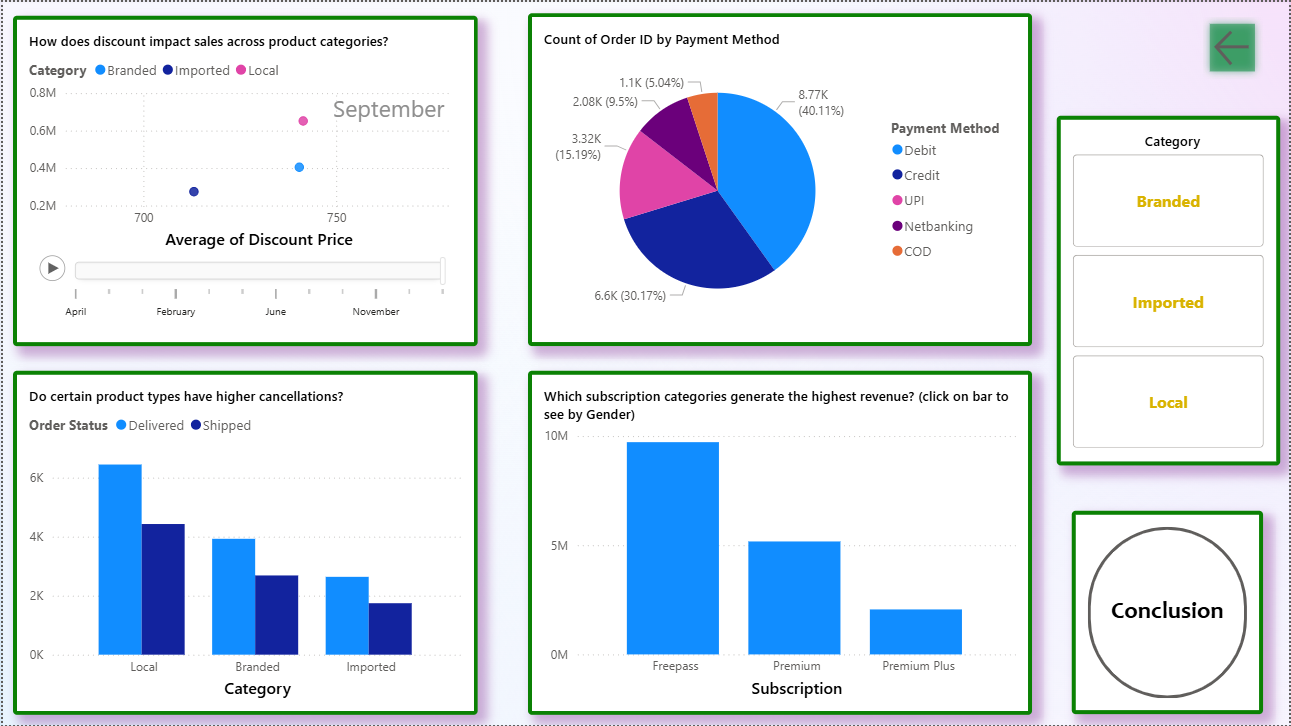

This screenshot's page, from the dashboard's own definition file:
{"tool":"powerbi","page":{"name":"DASHBOARD-2","canvas":[1280,720],"ordinal":1},"visuals":[{"type":"pieChart","fields":{"Category":["Dmart+Dataset_Tableau.Payment Method"],"Y":["CountNonNull(Dmart+Dataset_Tableau.Order ID)"]},"box":[522.5,11.2,501.3,330.9],"z":0},{"type":"clusteredColumnChart","title":"Do certain product types have higher cancellations? ","fields":{"Category":["Dmart+Dataset_Tableau.Category"],"Series":["Dmart+Dataset_Tableau.Order Status"],"Y":["CountNonNull(Dmart+Dataset_Tableau.Order ID)"]},"box":[10,367,462.8,342.1],"z":1000},{"type":"columnChart","title":"Which subscription categories generate the highest revenue? (click on bar to see by Gender)","fields":{"Category":["Dmart+Dataset_Tableau.Subscription"],"Y":["Sum(Dmart+Dataset_Tableau.Total Order Value)"]},"box":[522.5,367,501.3,342.1],"z":2000},{"type":"advancedSlicerVisual","fields":{"Values":["Dmart+Dataset_Tableau.Category"]},"box":[1048.7,113.2,222.7,348.3],"z":3000},{"type":"actionButton","box":[1063.6,506.3,190.3,202.8],"z":5000},{"type":"textbox","box":[1084.7,584.7,148,48.5],"z":6000},{"type":"actionButton","box":[1193,13.7,61,63.4],"z":7000},{"type":"scatterChart","title":"How does discount impact sales across product categories?","fields":{"Y":["Sum(Dmart+Dataset_Tableau.Total Order Value)"],"Series":["Dmart+Dataset_Tableau.Category"],"Play":["Dmart+Dataset_Tableau.Month"],"X":["Dmart+Dataset_Tableau.Discount Price"]},"box":[10,13.7,462.8,328.4],"z":7001}]}

Visuals, with their boxes in screenshot pixels (x1, y1, x2, y2), scaled from the page's 1280x720 canvas onto the 1291x726 screenshot:
pieChart - Dmart+Dataset_Tableau.Payment Method x CountNonNull(Dmart+Dataset_Tableau.Order ID): <box>527,11,1033,345</box>
"Do certain product types have higher cancellations? " clusteredColumnChart: <box>10,370,477,715</box>
"Which subscription categories generate the highest revenue? (click on bar to see by Gender)" columnChart: <box>527,370,1033,715</box>
advancedSlicerVisual - Dmart+Dataset_Tableau.Category: <box>1058,114,1282,465</box>
actionButton: <box>1073,511,1265,715</box>
textbox: <box>1094,590,1243,638</box>
actionButton: <box>1203,14,1265,78</box>
"How does discount impact sales across product categories?" scatterChart: <box>10,14,477,345</box>
